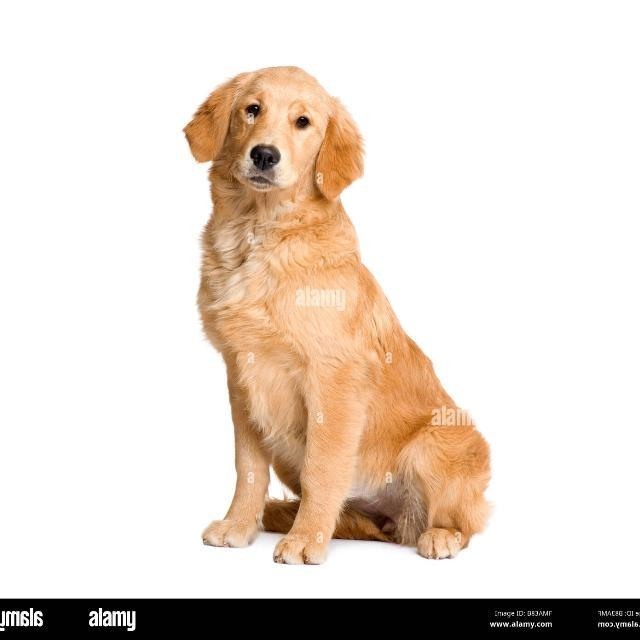dog: (187, 42, 505, 580)
